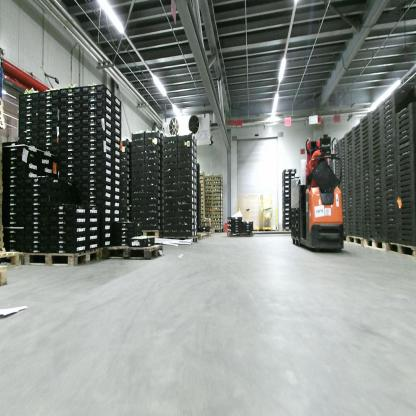pallet: (25, 246, 105, 270), (101, 240, 164, 268), (385, 242, 415, 260), (1, 249, 21, 270), (362, 236, 386, 253), (162, 235, 197, 246), (135, 229, 163, 240), (345, 233, 364, 248), (0, 263, 9, 290), (227, 230, 254, 238), (291, 235, 302, 250), (203, 230, 213, 239), (282, 227, 294, 234), (198, 231, 205, 241), (207, 228, 216, 234)
pallet_truck: (301, 131, 344, 255)
